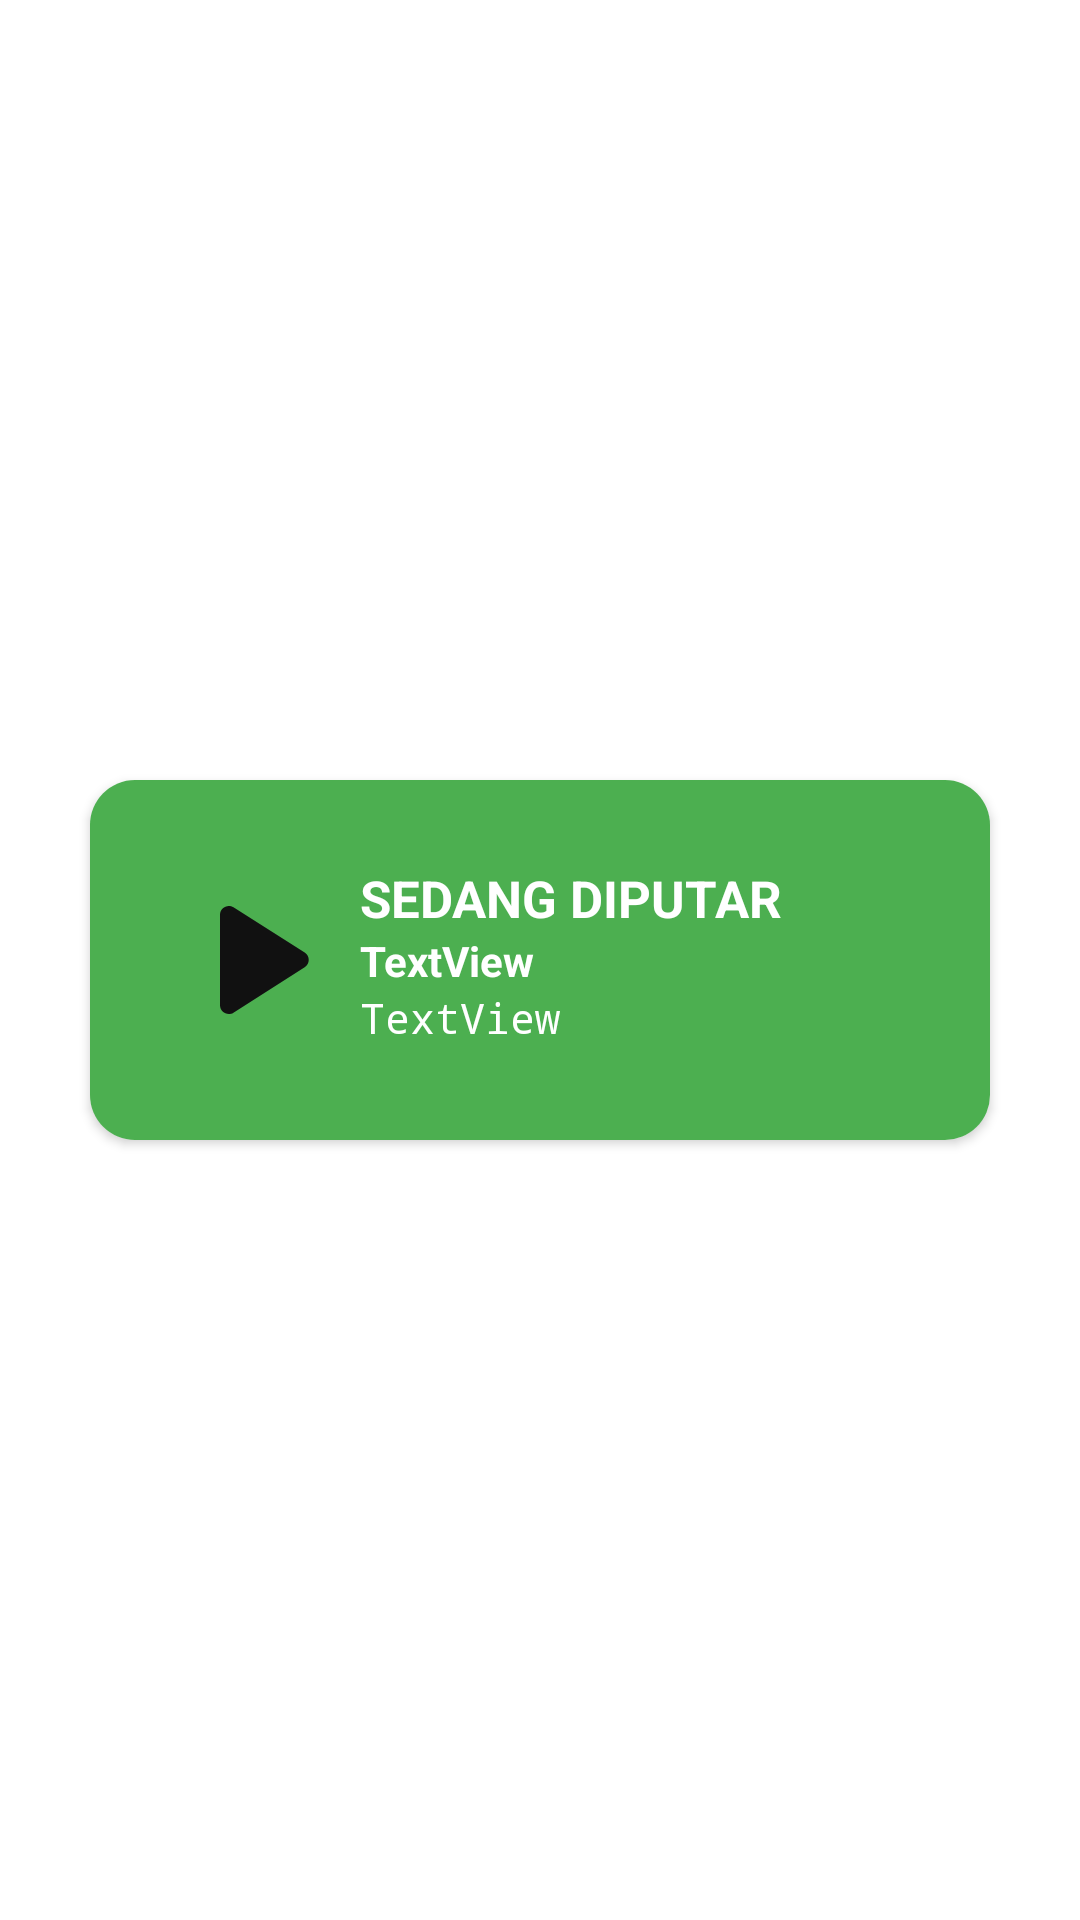

Named icons in this screenshot (1080 × 1920) and their bounding boxes, (x1, y1, x2, y2):
play: (220, 906, 309, 1014)
